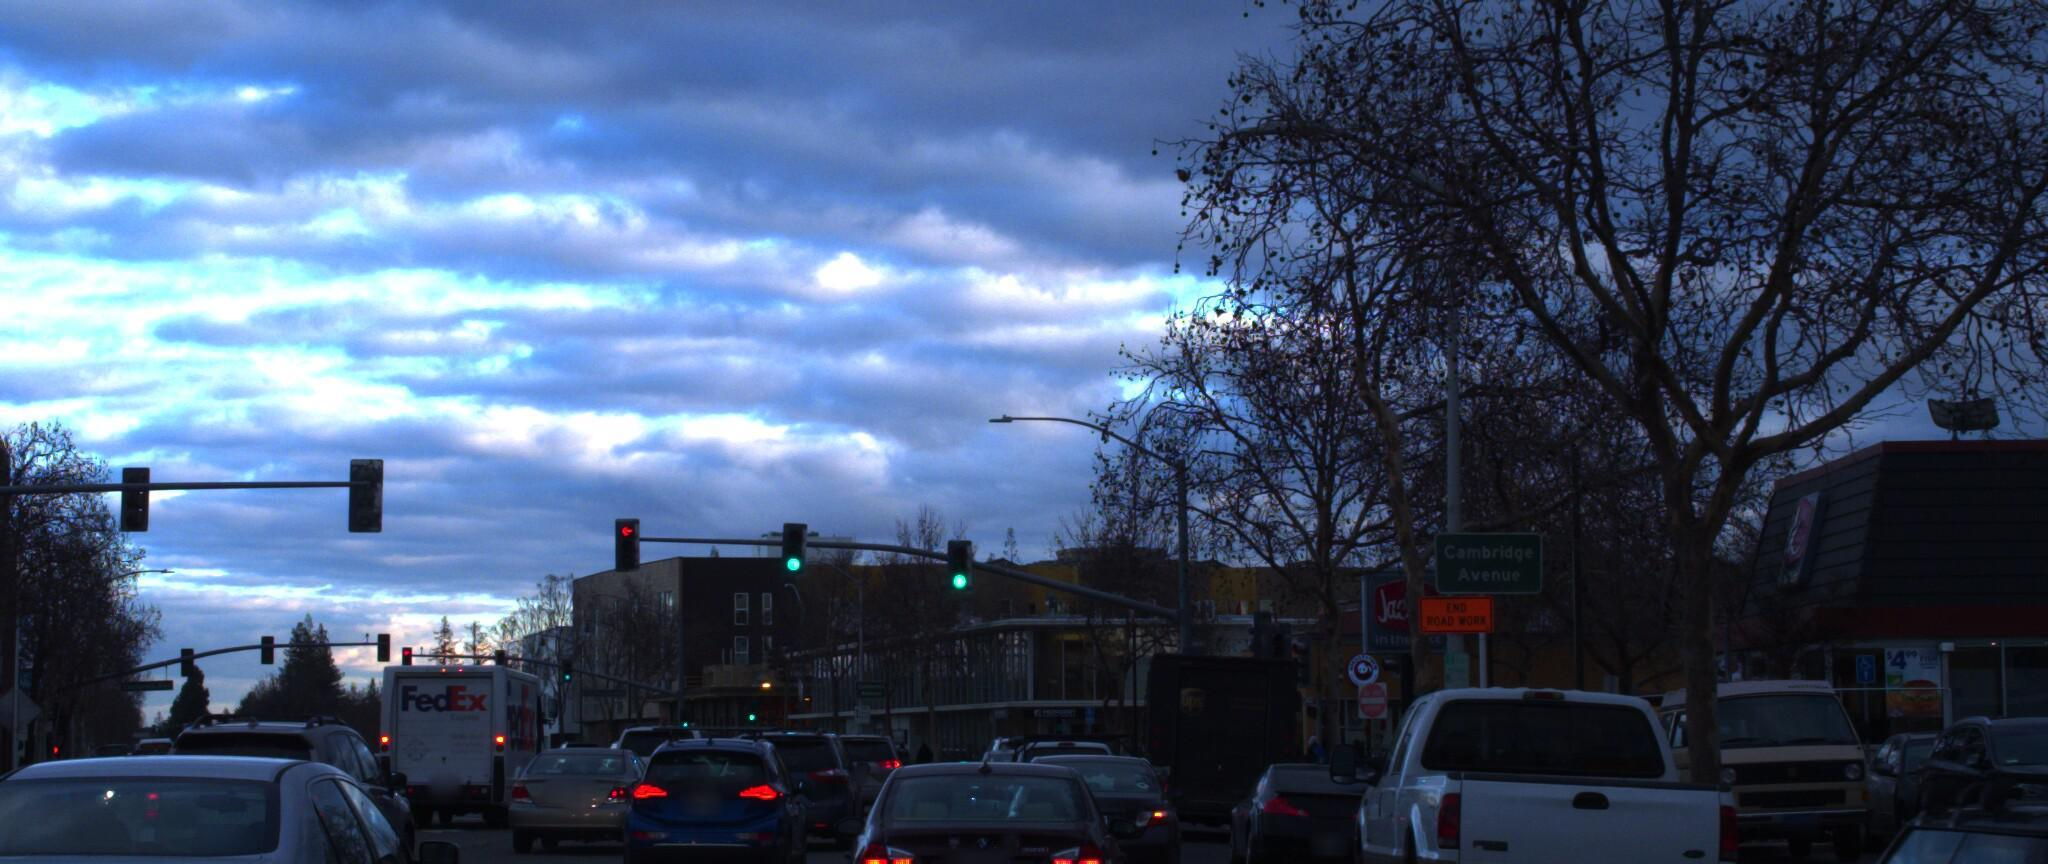car: (1318, 664, 1768, 864), (0, 756, 508, 864), (1621, 666, 1869, 857), (145, 718, 436, 864), (820, 735, 1145, 864), (1701, 758, 2048, 864), (1814, 713, 2048, 854), (1880, 692, 2048, 864), (603, 737, 815, 864), (980, 718, 1148, 860), (1015, 743, 1204, 864), (1206, 743, 1394, 864), (503, 743, 671, 864), (725, 709, 861, 838), (615, 722, 726, 814), (828, 719, 914, 800), (0, 739, 40, 864)
truck: (1123, 636, 1306, 826), (364, 646, 555, 817)
